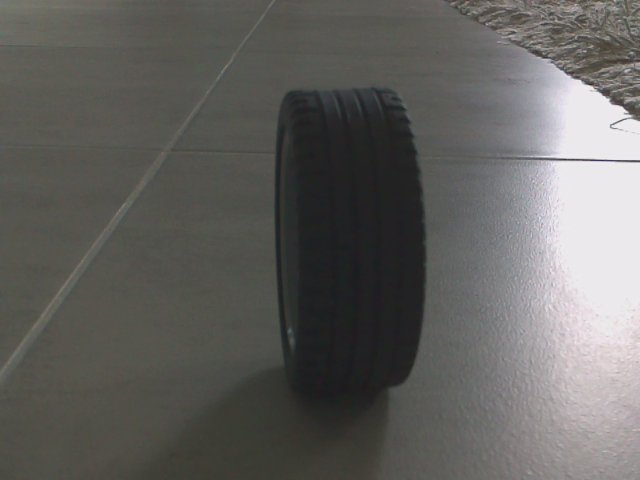Rad: (264, 79, 432, 398)
